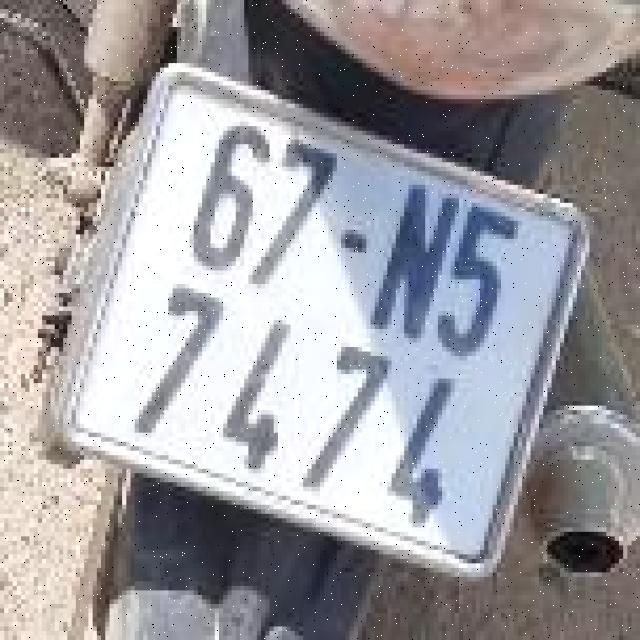4: (363, 358, 486, 540), (208, 302, 323, 486)
5: (424, 189, 532, 374)
6: (174, 107, 284, 286)
7: (115, 271, 248, 454), (282, 326, 410, 513), (234, 123, 350, 315)
N: (356, 169, 470, 355)
